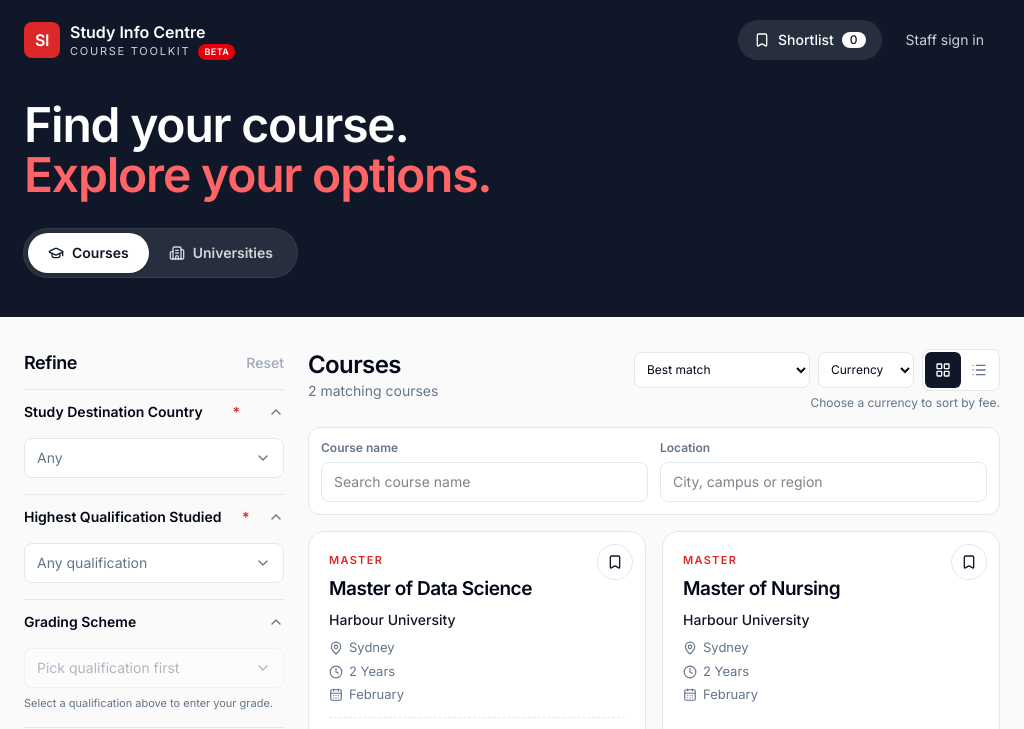
Test case: public degrees page › combines course-name and location filters above results and clears both
Type "nursing" into the search field with test id "input-course-name". click: coordinates (484, 482)
box: [321,462,648,502]
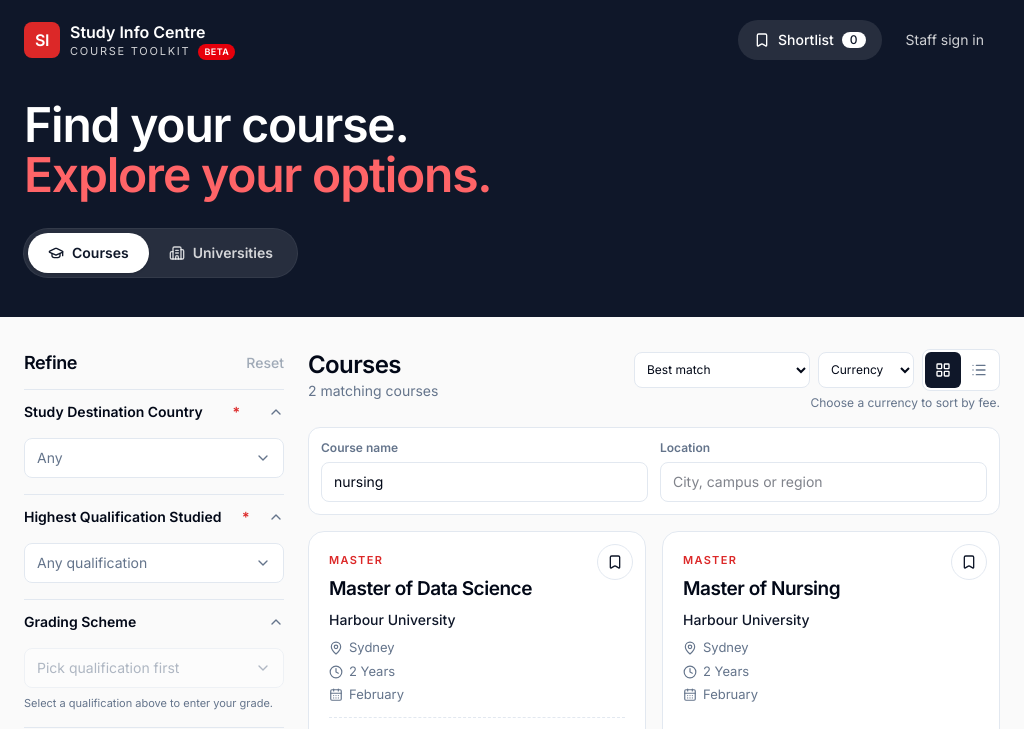
Type "Sydney" into the search field with test id "input-course-location". click: coordinates (824, 482)
box: [660,462,987,502]
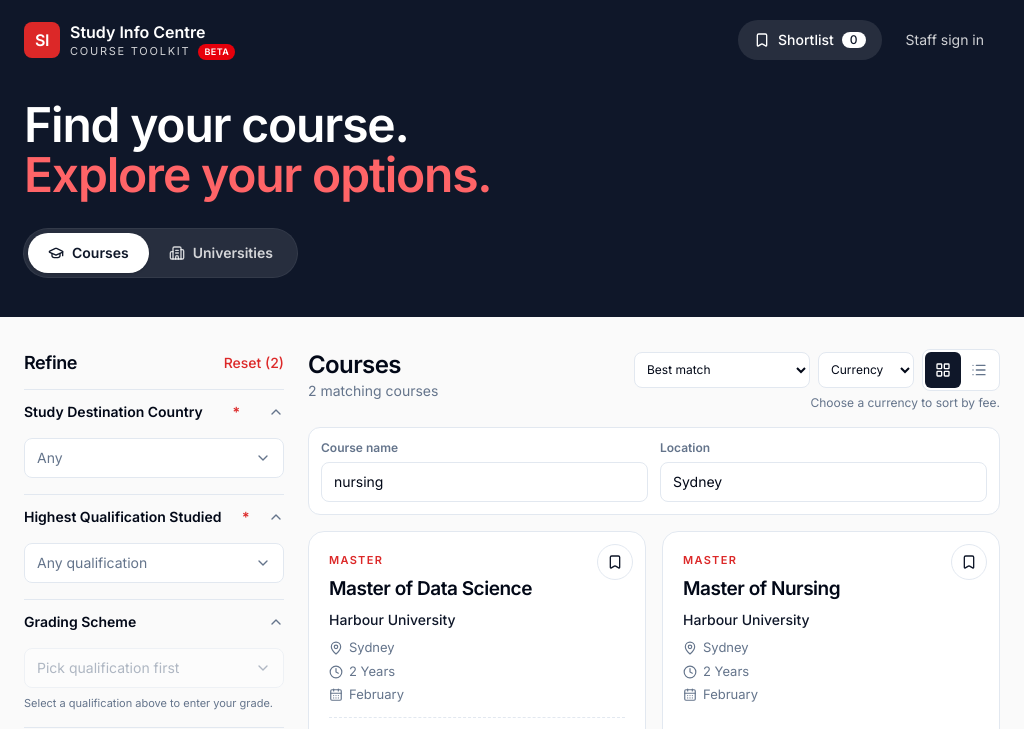
Check: the button with test id "select-country" is shown, box [24,438,284,478]
Click the button with test id "button-clear-filters". click: coordinates (254, 363)
box: [224,353,284,373]
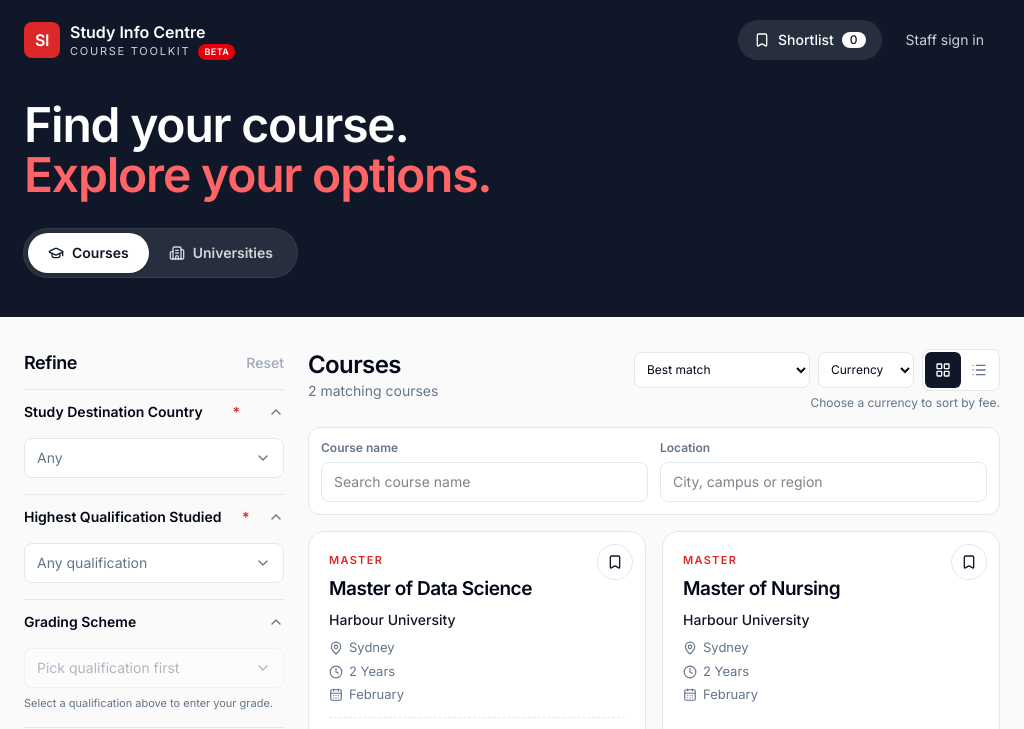
Check: the search field with test id "input-course-name" is empty, box [321,462,648,502]
Check: the search field with test id "input-course-location" is empty, box [660,462,987,502]
